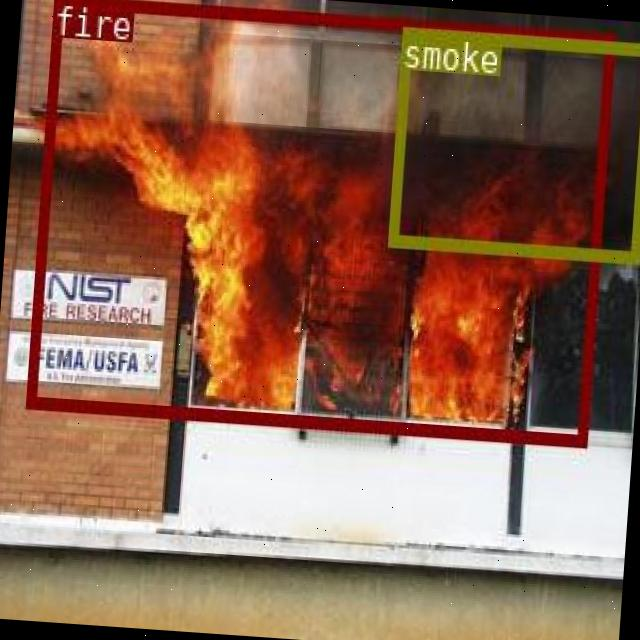fire: (24, 0, 612, 442)
smoke: (385, 25, 640, 262)
